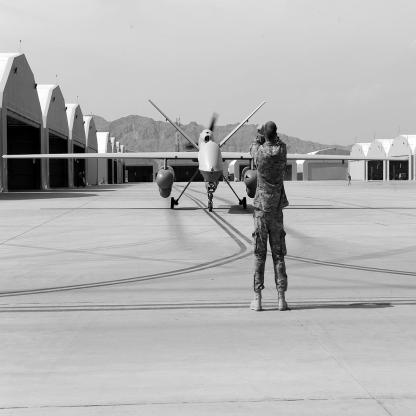MQ9: (2, 100, 411, 213)
